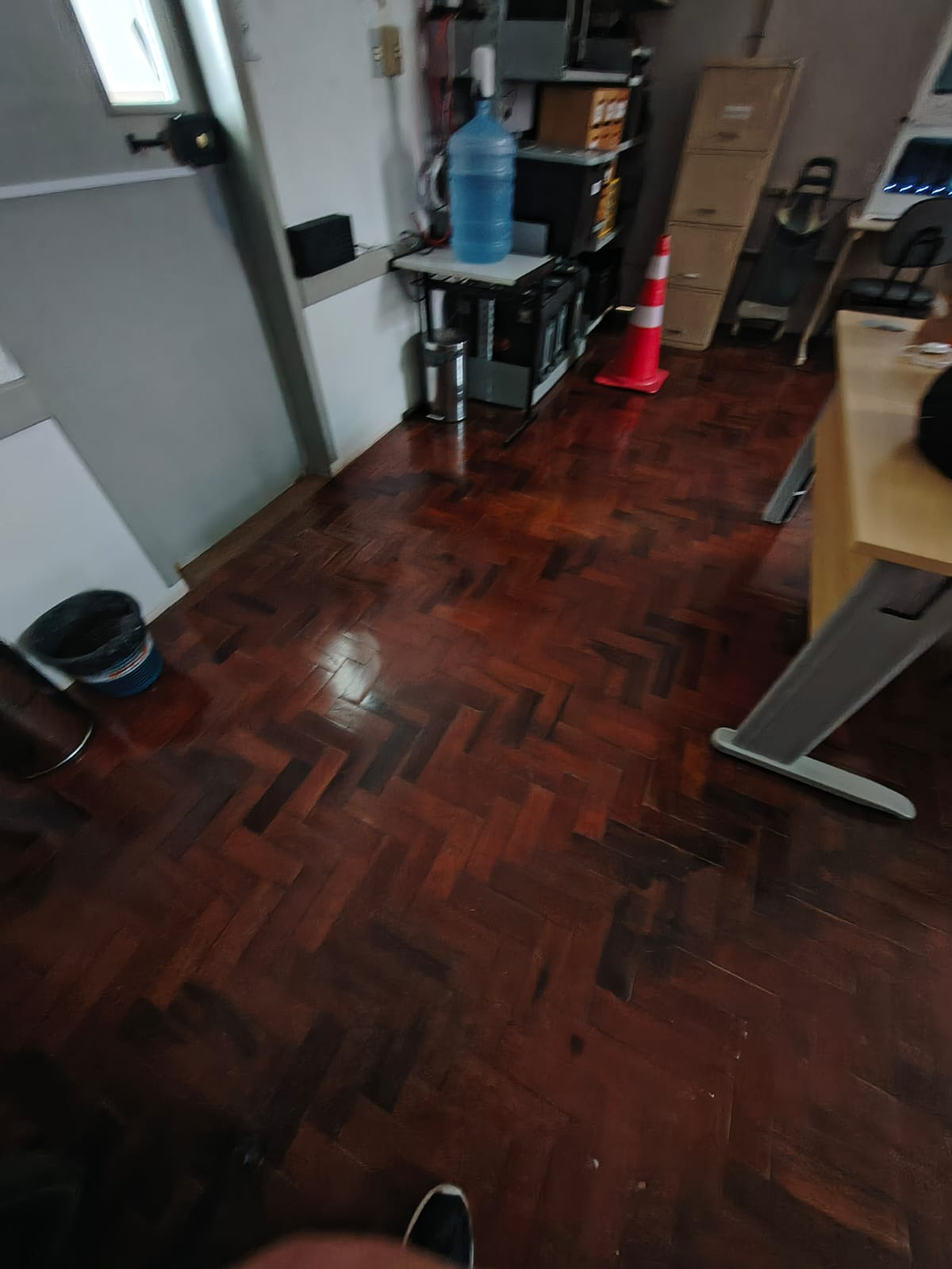cone: (587, 217, 681, 400)
